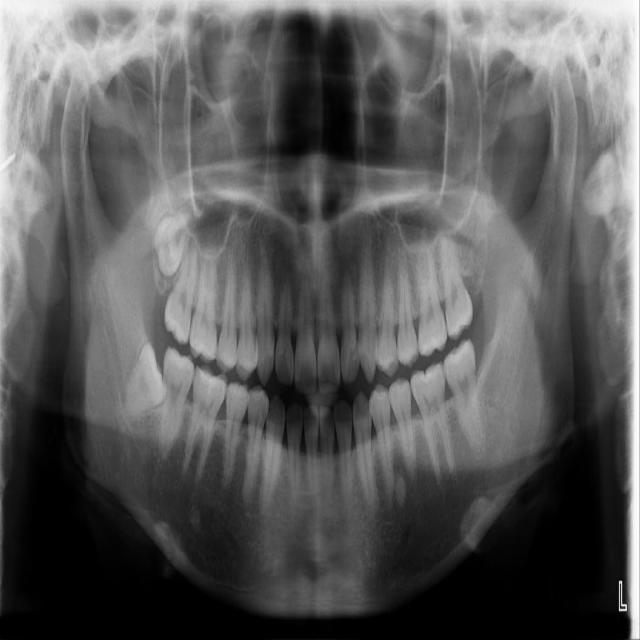3M ESPE Implant: (150, 209, 190, 279)
73: (596, 574, 605, 586)
BioHorizons Implant: (439, 227, 476, 341)
Blue Sky Bio Implant: (440, 339, 485, 452)
Caries: (160, 233, 202, 345)
Implant: (156, 344, 196, 459)
Keystone Dental Implant: (109, 340, 174, 424)
